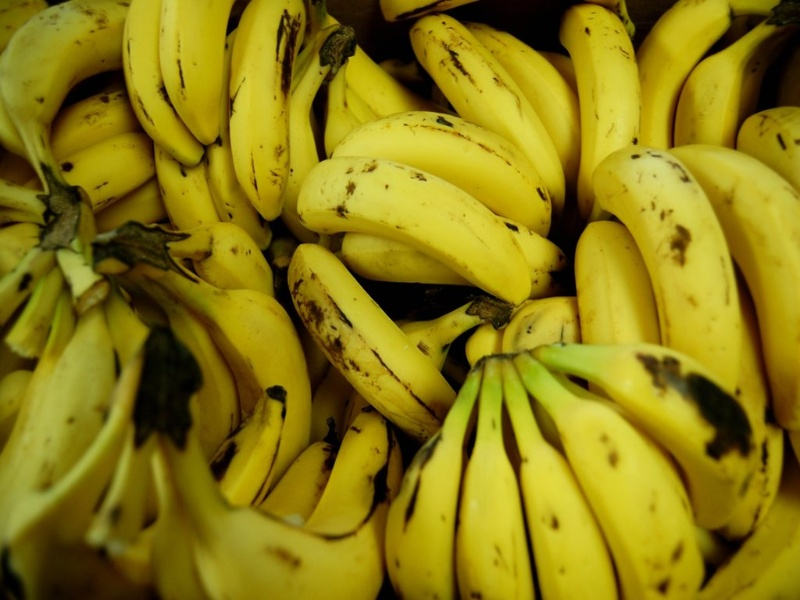banana: (129, 322, 395, 600), (504, 345, 703, 600), (282, 239, 453, 438)
